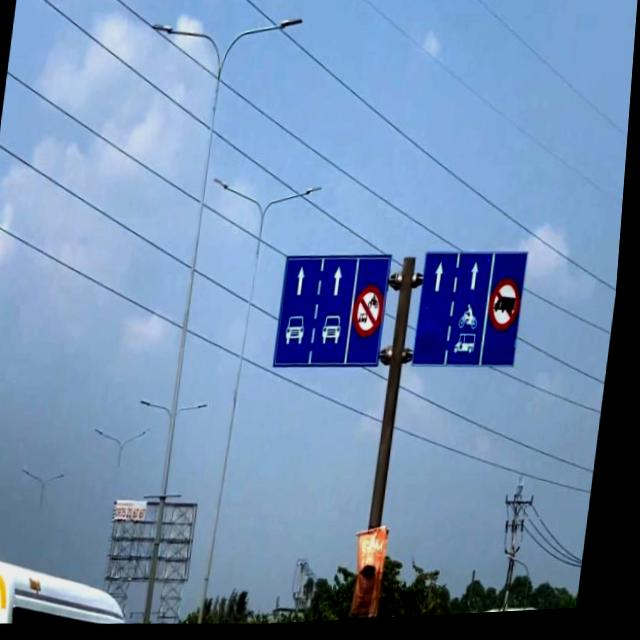Cam xe tai: (491, 284, 530, 340)
